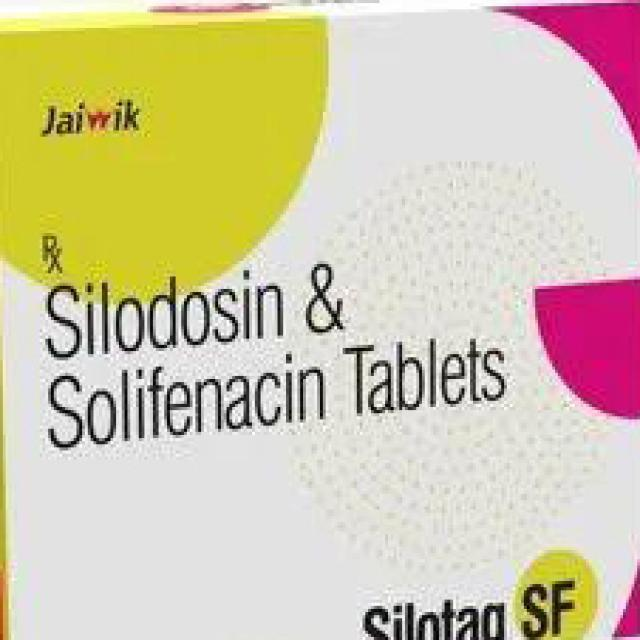drug-name: (353, 582, 596, 640)
